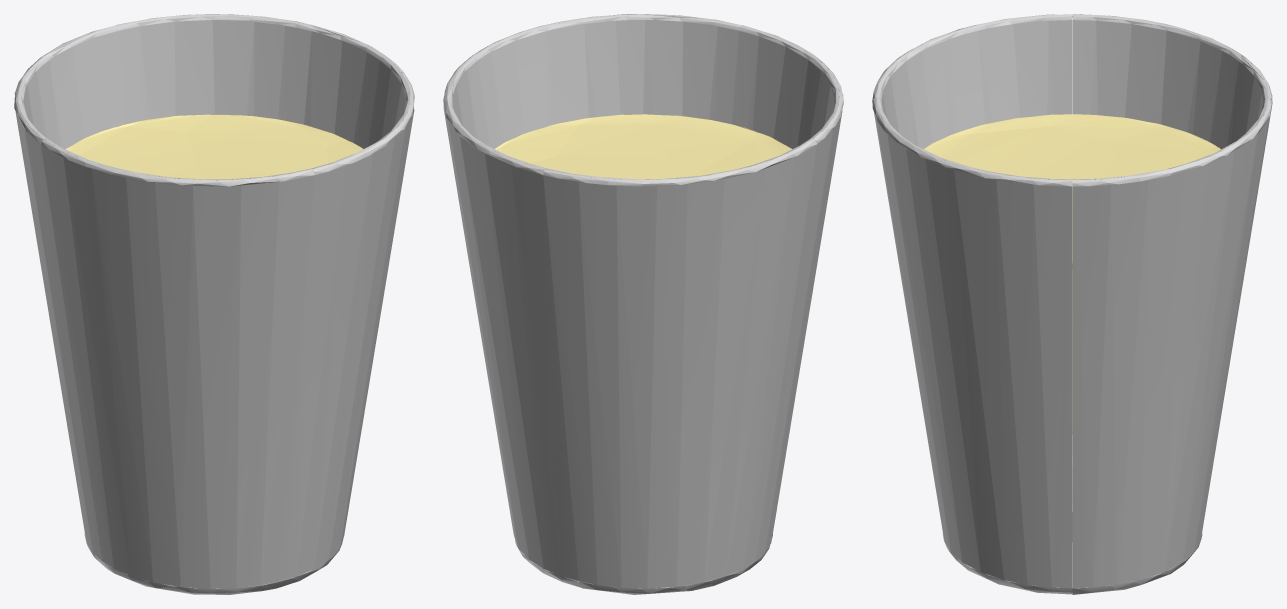
Rendered from gazpacho-tmp.fbx.
3 views of the same model, side by side, from view 1: azimuth 30°, elevation 25°; view 2: azimuth 150°, elevation 25°; view 3: azimuth 270°, elevation 25° (orthographic).
Parts seen in each view (by area): view 1: 3December2020_13_FizzyDrink; view 2: 3December2020_13_FizzyDrink; view 3: 3December2020_13_FizzyDrink.
Boxes of the visible parts, x1,y1,x2,y2 form: 3December2020_13_FizzyDrink: (14, 14, 414, 594); 3December2020_13_FizzyDrink: (443, 14, 843, 594); 3December2020_13_FizzyDrink: (872, 14, 1272, 594).
Size of the model in its own units: 4396 by 5413 by 4396.
